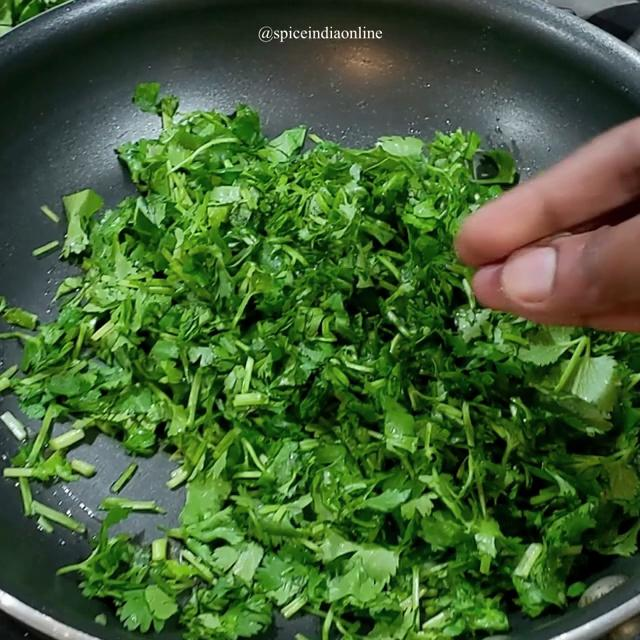cilantro: (128, 149, 462, 612)
